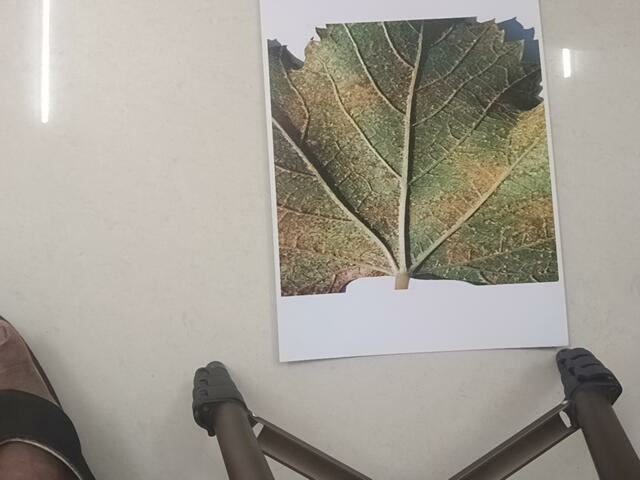Grape_Rust_Fungus: (265, 14, 569, 288)
